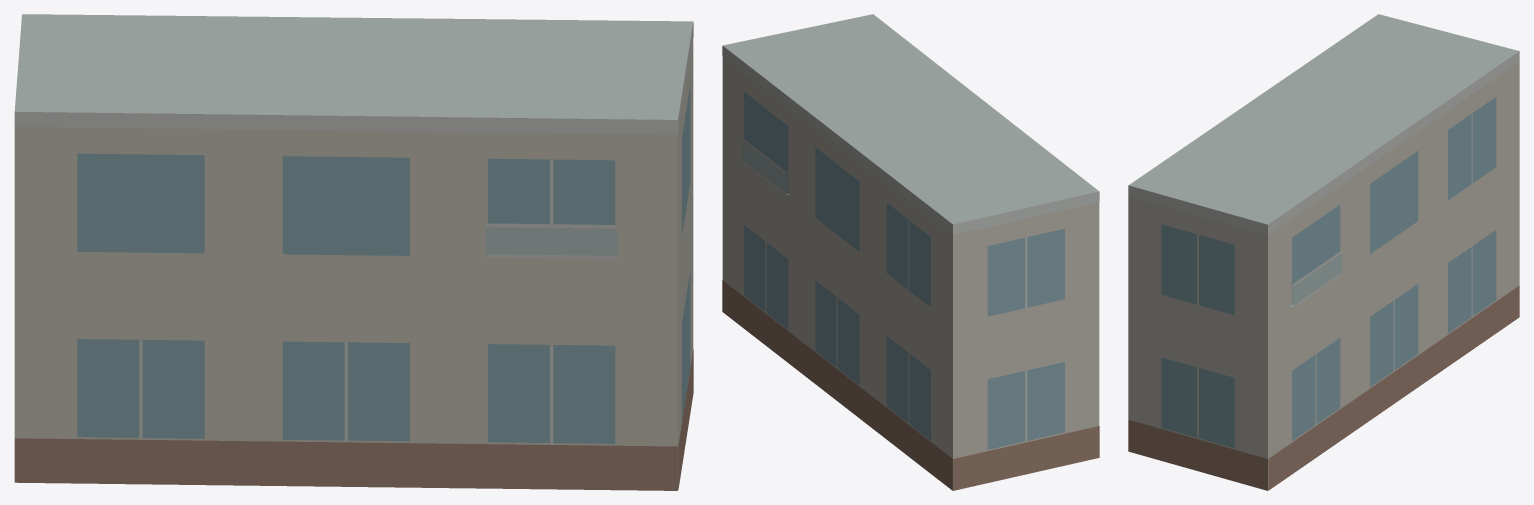
File: survey-upis-32923159.glb
The picture shows the model from 3 angles, left to right: view 1: azimuth 30°, elevation 25°; view 2: azimuth 150°, elevation 25°; view 3: azimuth 270°, elevation 25°; orthographic projection. The views are drawn at different scales.
Visible parts, largest first — view 1: survey-upis-32923159.tmp; view 2: survey-upis-32923159.tmp; view 3: survey-upis-32923159.tmp.
Boxes of the visible parts, box(x1,y1,x2,y2) form: survey-upis-32923159.tmp: box(14, 14, 693, 490); survey-upis-32923159.tmp: box(722, 14, 1099, 490); survey-upis-32923159.tmp: box(1128, 14, 1519, 490).
Size of the model in its own units: 10.37 by 6.1 by 8.13.
